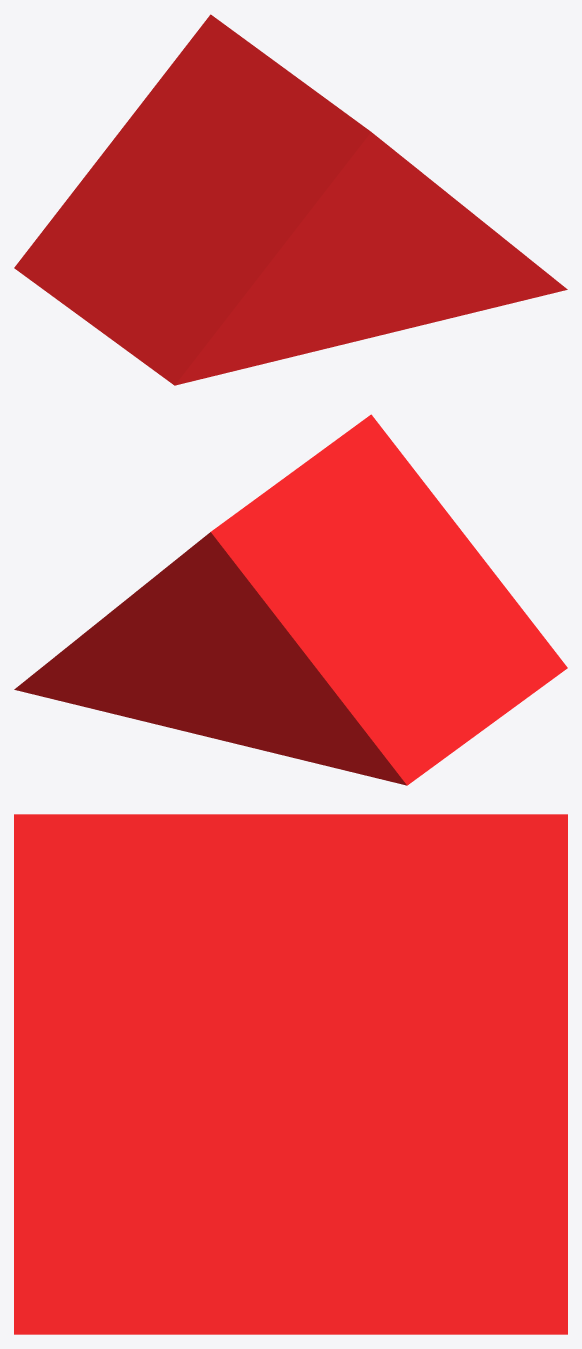
3 renders of one model, top to bottom at view 1: azimuth 30°, elevation 25°; view 2: azimuth 150°, elevation 25°; view 3: azimuth 270°, elevation 25°, orthographic. The views are drawn at different scales.
Parts seen in each view (by area): view 1: Cube; view 2: Cube; view 3: Cube.
Boxes of the visible parts, box(x1,y1,x2,y2) form: Cube: box(14, 14, 567, 385); Cube: box(14, 414, 567, 785); Cube: box(14, 814, 567, 1334).
Size of the model in its own units: 283 by 141 by 200.
